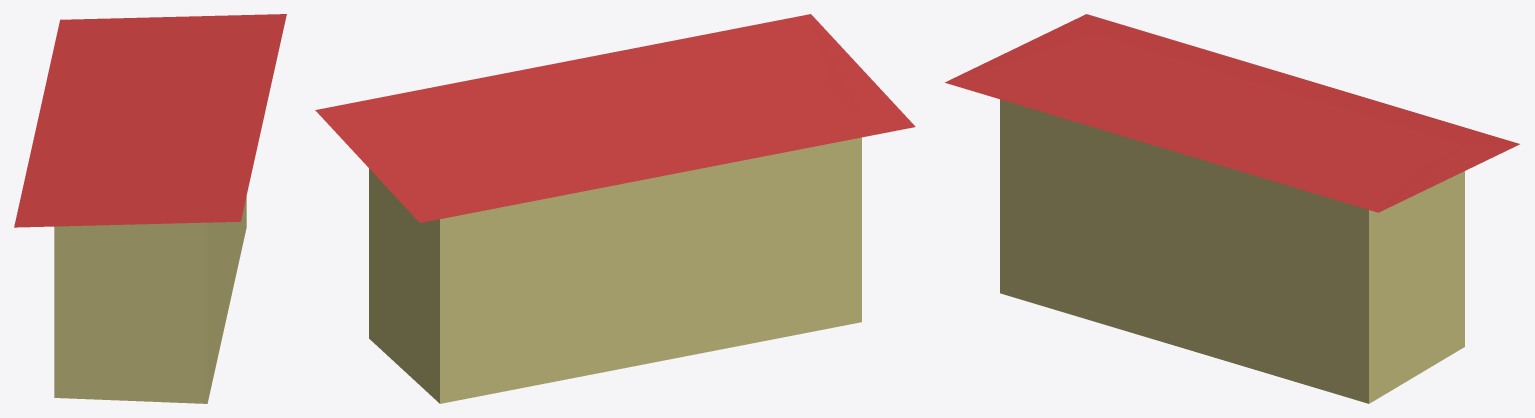
The picture shows the model from 3 angles, left to right: view 1: azimuth 30°, elevation 25°; view 2: azimuth 150°, elevation 25°; view 3: azimuth 270°, elevation 25°; orthographic projection. The views are drawn at different scales.
Size of the model in its own units: 12.78 by 14.49 by 5.96.
